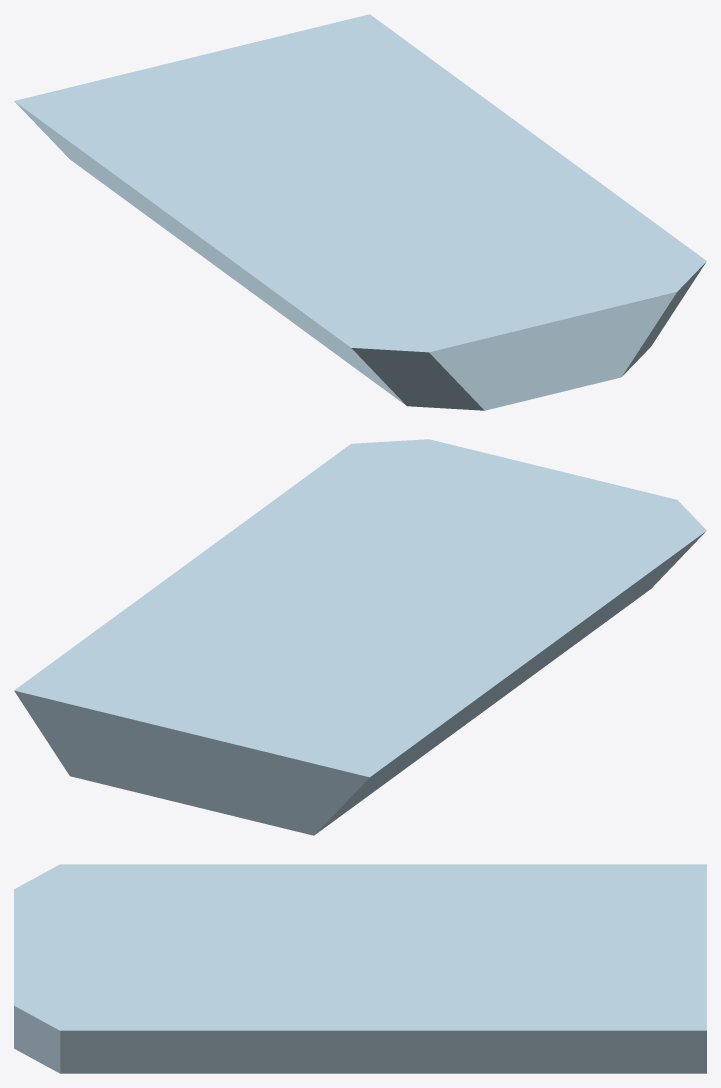
The model's file is STAM - M1-1.gltf.
The picture shows the model from 3 angles, top to bottom: view 1: azimuth 30°, elevation 25°; view 2: azimuth 150°, elevation 25°; view 3: azimuth 270°, elevation 25°; orthographic projection. The views are drawn at different scales.
Parts seen in each view (by area): view 1: M1-1; view 2: M1-1; view 3: M1-1.
Part boxes in pixels (x1,y1,x2,y2): M1-1: [14, 14, 706, 410]; M1-1: [14, 439, 706, 835]; M1-1: [14, 864, 706, 1073].
Size of the model in its own units: 0.00853 by 0.00165 by 0.015.
